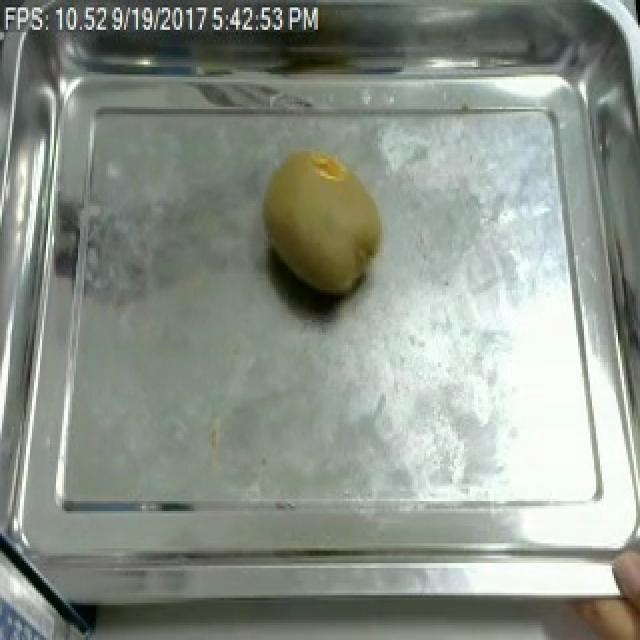Fruit: (254, 139, 394, 305)
